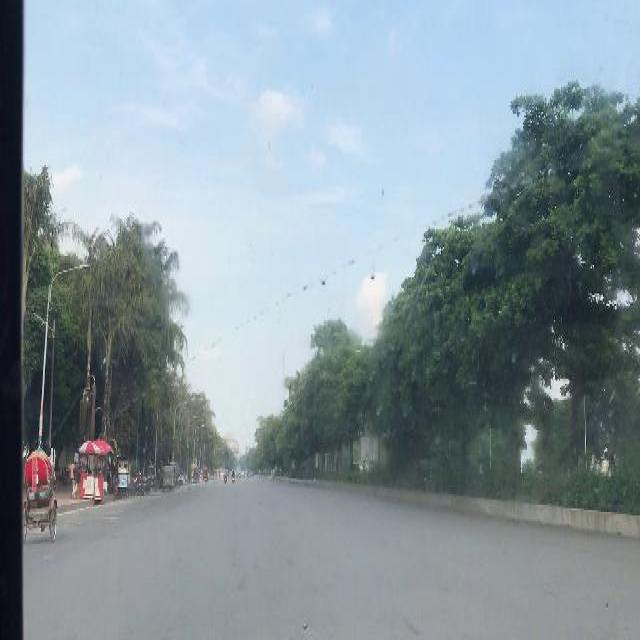vehicle: (23, 446, 60, 544), (163, 464, 176, 494), (193, 466, 202, 485), (202, 465, 210, 486)
